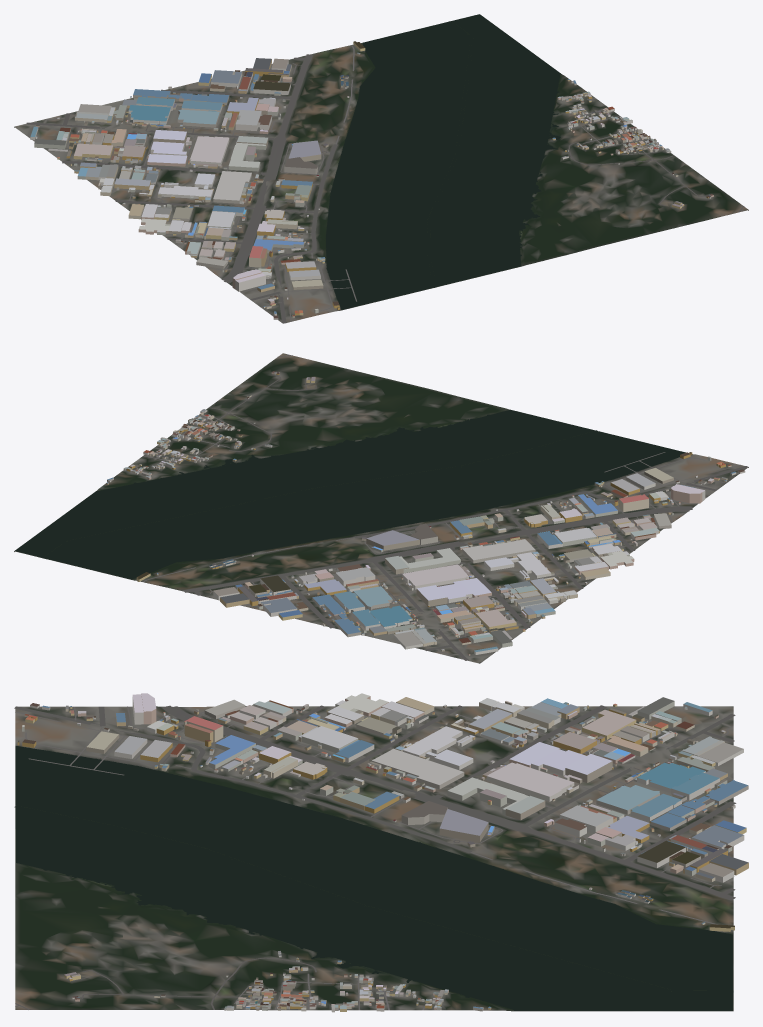
The picture shows the model from 3 angles, top to bottom: view 1: azimuth 30°, elevation 25°; view 2: azimuth 150°, elevation 25°; view 3: azimuth 270°, elevation 25°; orthographic projection. The views are drawn at different scales.
Parts seen in each view (by area): view 1: water, ground, buildings, roads; view 2: water, ground, buildings, roads; view 3: water, ground, buildings, roads.
Part boxes in pixels (<box>): water: <box>325,14,561,309</box>; ground: <box>14,38,748,323</box>; buildings: <box>30,41,713,319</box>; roads: <box>26,45,744,323</box>; water: <box>15,409,685,579</box>; ground: <box>14,353,748,663</box>; buildings: <box>106,371,745,655</box>; roads: <box>130,354,748,660</box>; water: <box>14,746,733,1010</box>; ground: <box>15,706,733,1011</box>; buildings: <box>17,693,748,1012</box>; roads: <box>14,705,736,1010</box>.
Bounding box in the file's own units: 1452 × 33.81 × 1433.
